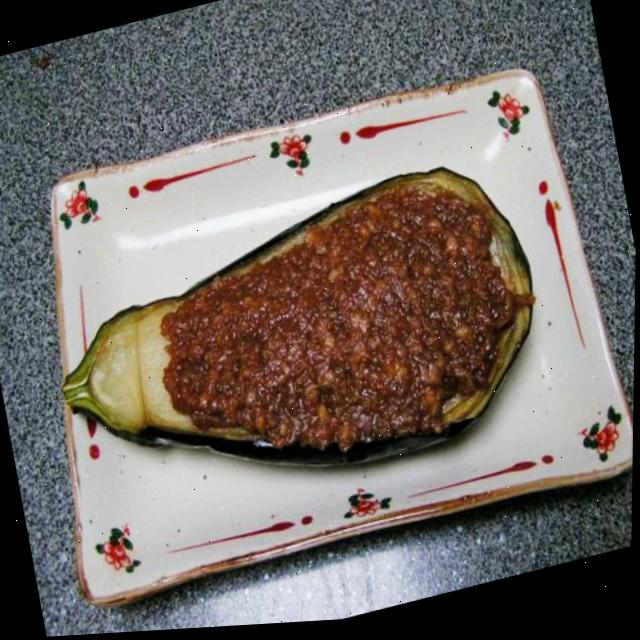鸡蛋料理: (0, 127, 597, 568)
